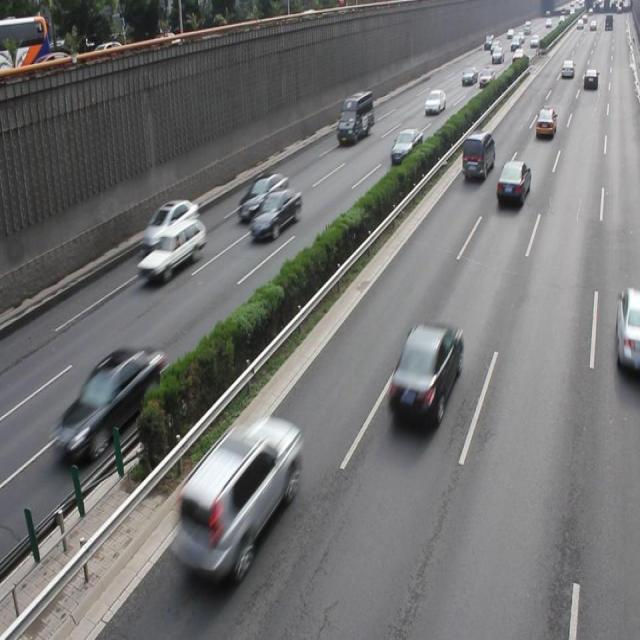car: (172, 415, 301, 579), (56, 344, 168, 460), (388, 319, 464, 423), (137, 219, 207, 280), (249, 184, 302, 238), (143, 196, 199, 246), (236, 168, 288, 218), (614, 287, 640, 371), (496, 160, 530, 206), (390, 128, 422, 166)
truck: (460, 128, 493, 180)
